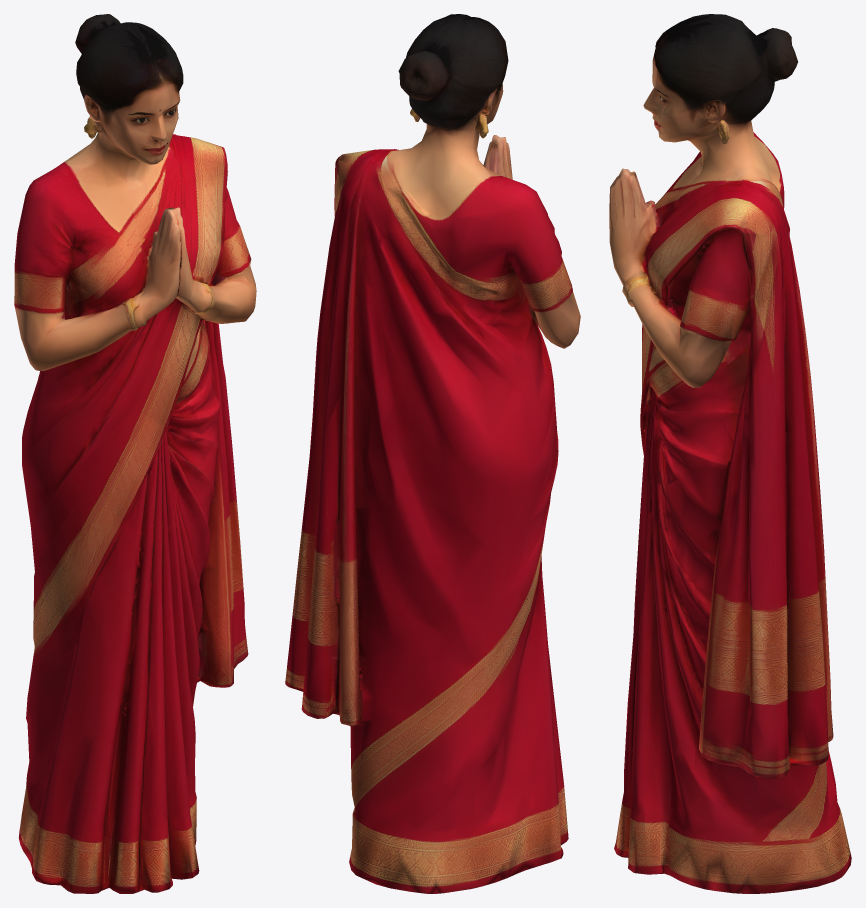
The model's file is namaste-original.glb.
3 renders of one model, left to right at view 1: azimuth 30°, elevation 25°; view 2: azimuth 150°, elevation 25°; view 3: azimuth 270°, elevation 25°, orthographic. The views are drawn at different scales.
Parts seen in each view (by area): view 1: SareeModel; view 2: SareeModel; view 3: SareeModel.
Boxes of the visible parts, x1,y1,x2,y2 form: SareeModel: [14, 14, 256, 893]; SareeModel: [285, 14, 580, 893]; SareeModel: [609, 14, 851, 893].
Size of the model in its own units: 0.5516 by 1.7 by 0.4445.
1 material, 1 textured.
